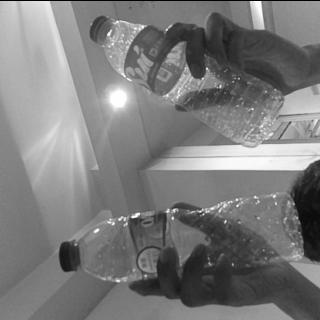plastic_bottles: (86, 10, 284, 146), (59, 192, 308, 282)
